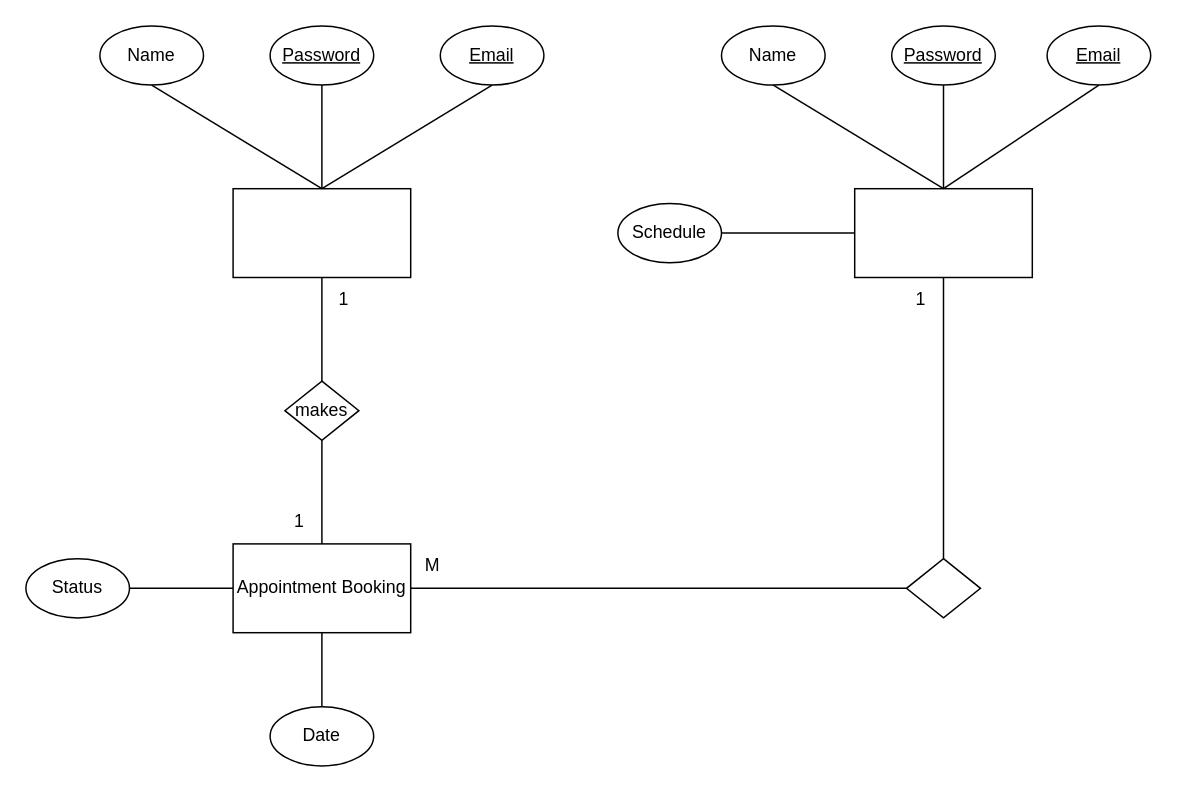
Image size: 1177x792. Some labels were removed from this diagram. The shapes that lost their labels are listed below. From the top down, each one's centre as x and y in pixels, then its label:
the point at 321,232: Patient
the point at 942,232: Dentist
the point at 942,587: has
